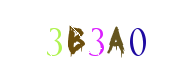0: (98, 0, 178, 80)
3: (35, 0, 115, 80), (57, 0, 137, 80)
A: (69, 0, 149, 80)
B: (52, 0, 132, 80)
